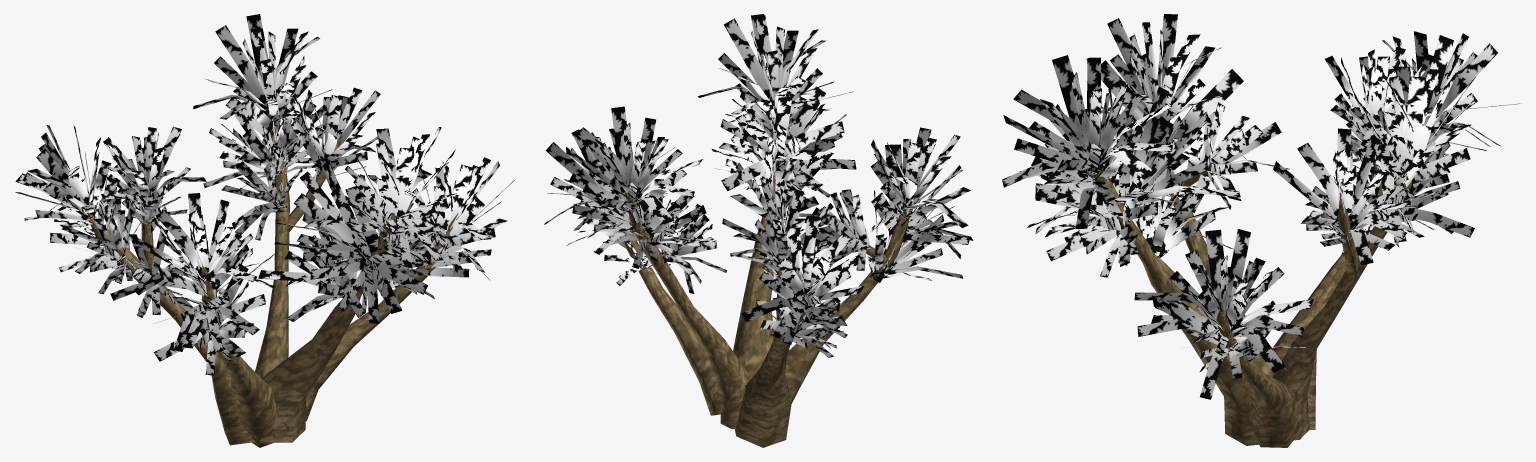
Rendered from P_YuccaTree04.obj.
3 renders of one model, left to right at view 1: azimuth 30°, elevation 25°; view 2: azimuth 150°, elevation 25°; view 3: azimuth 270°, elevation 25°, orthographic. The views are drawn at different scales.
Size of the model in its own units: 8.82 by 7.25 by 8.37.
